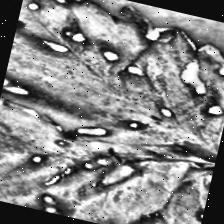Leaf Spot: (0, 0, 224, 173), (0, 76, 223, 224), (41, 134, 213, 224)
